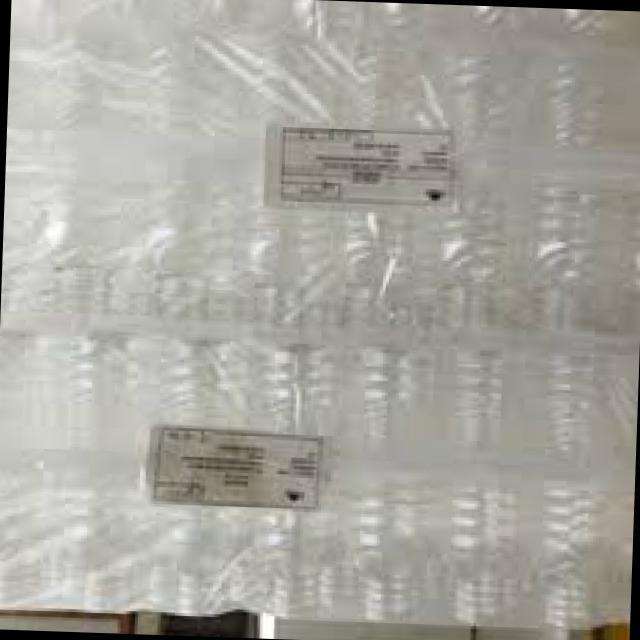good: (503, 34, 640, 331), (140, 324, 282, 603), (61, 310, 198, 594), (329, 346, 465, 618), (246, 329, 376, 605), (420, 326, 534, 630), (391, 41, 499, 330), (44, 64, 158, 308), (0, 322, 98, 605), (312, 61, 416, 322), (230, 106, 352, 312), (148, 60, 239, 319)
